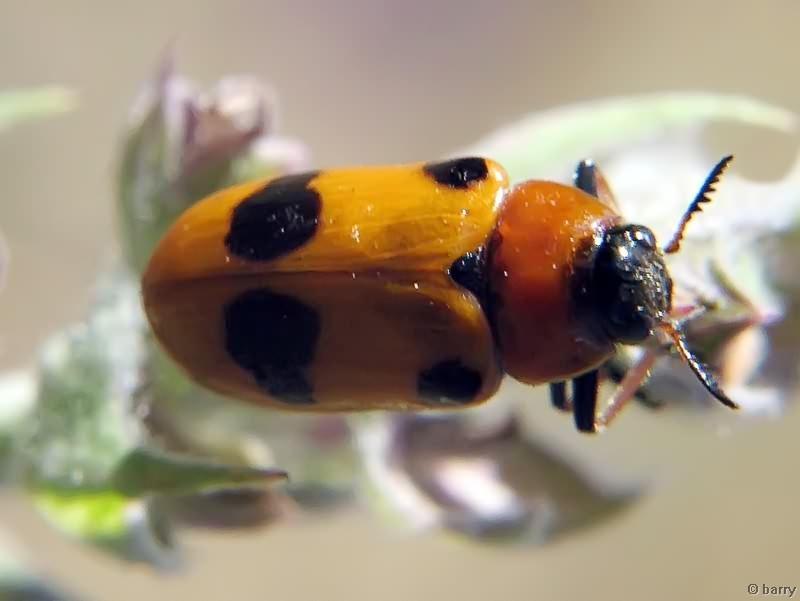Tituboea_macropus: (128, 117, 741, 467)
